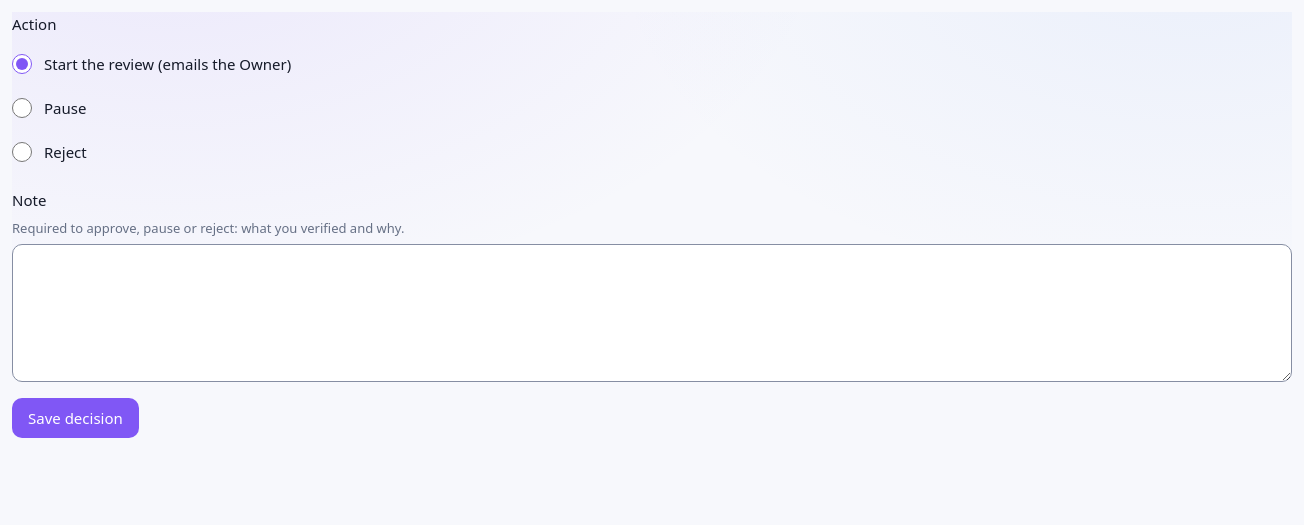
it: StaffDecisionForm › sends no outcome for other actions and asks for a fresh sign-in when needed
Click the button "Save decision" at (75, 418), box [12, 398, 139, 438]
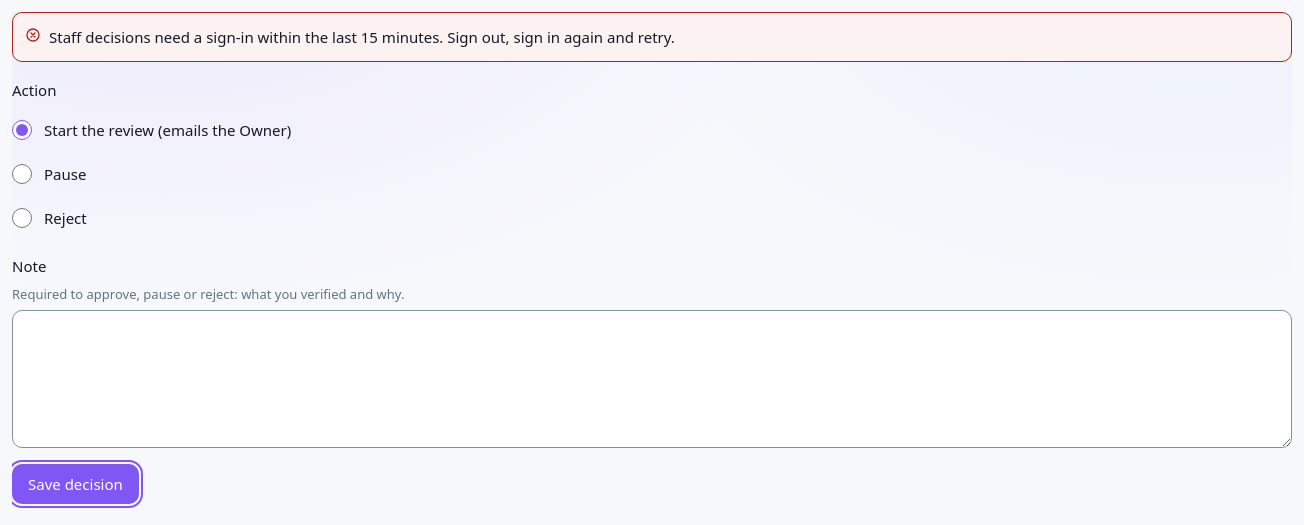
Expected: the message shows "within the last 15 minutes", [49, 27, 675, 47]
